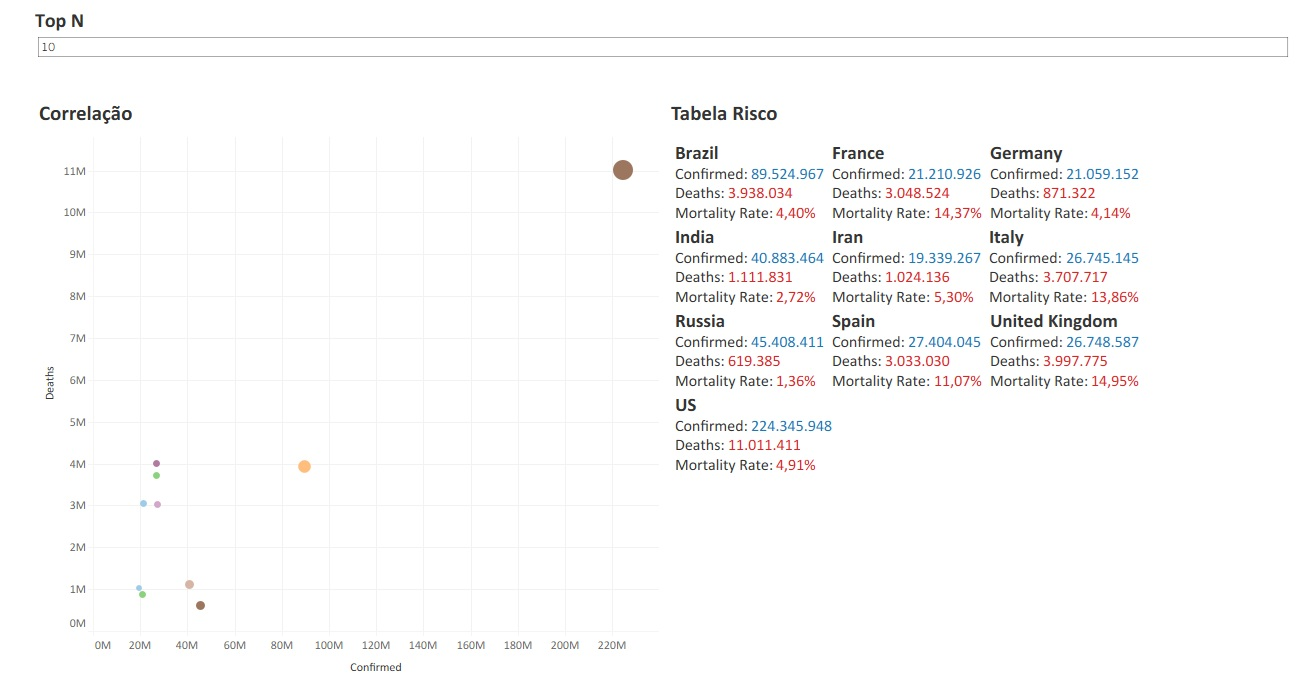

Layout of this report page (visuals, bound fields, positions):
{"tool":"tableau","page":{"name":"Risco por País","canvas":[1000,1000],"units":"permille","ordinal":0},"visuals":[{"type":"parameter","param":"[Parameters].[Parâmetro 1]","box":[6.2,13.3,987.5,125]},{"type":"worksheet","title":"Correlação","mark":"Circle","rows":["Deaths"],"cols":["Confirmed"],"box":[6.2,138.3,493.8,848.4]},{"type":"worksheet","title":"Tabela Risco","mark":"Text","box":[500,138.3,493.7,848.4]}]}

Visuals, with their boxes on the dashboard's canvas, which has no fixed pixel size, in thousandths of its width and height (x1, y1, x2, y2). These are canvas units, not pixel positions in the 1308x687 screenshot, which may show the page scaled, cropped or inside an application window:
parameter: 6/13/994/138
"Correlação" worksheet (Circle marks): 6/138/500/987
"Tabela Risco" worksheet (Text marks): 500/138/994/987
